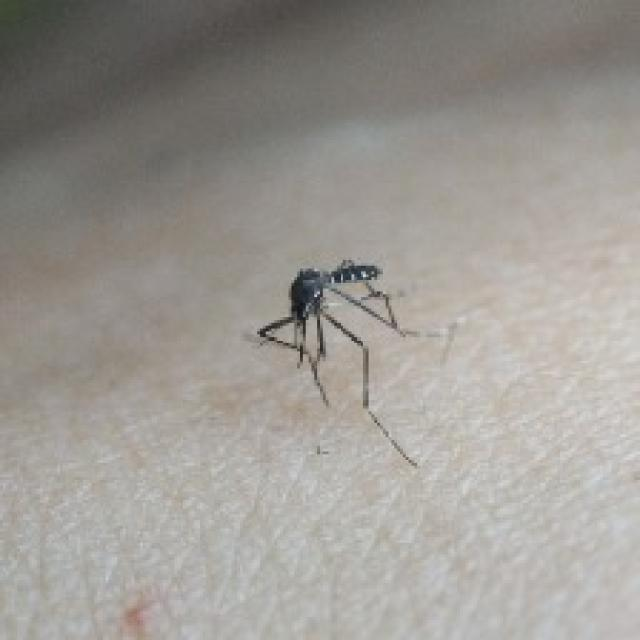aedes: (252, 254, 457, 469)
